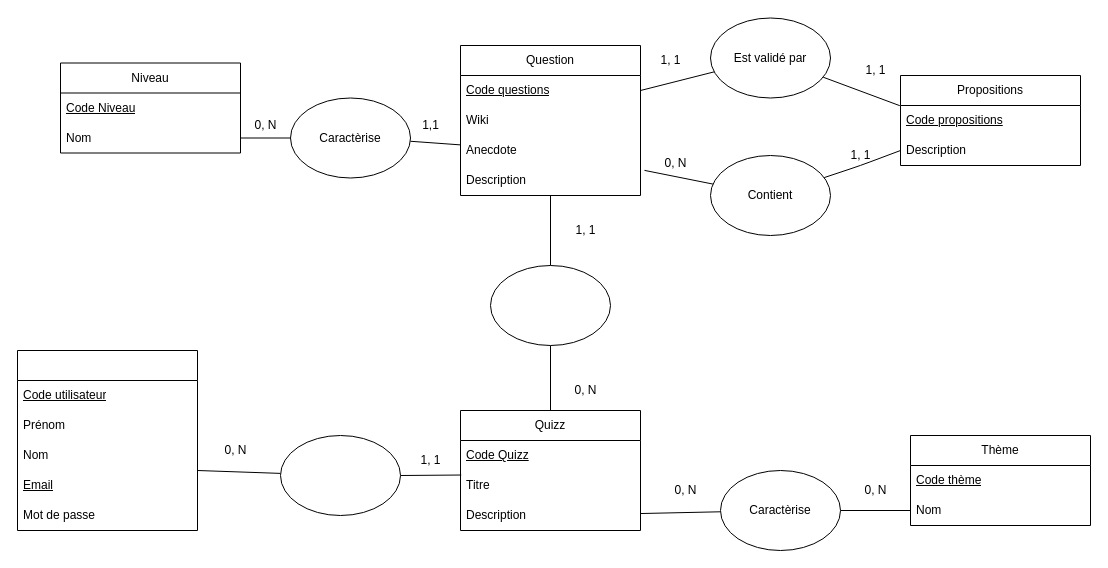
This 1108x568 diagram has some shape labels left out. Each missing label, with the box of its shape:
Appartient: (490, 264, 610, 346)
Est auteur de: (280, 434, 400, 516)
Utilisateurs: (16, 350, 198, 530)
